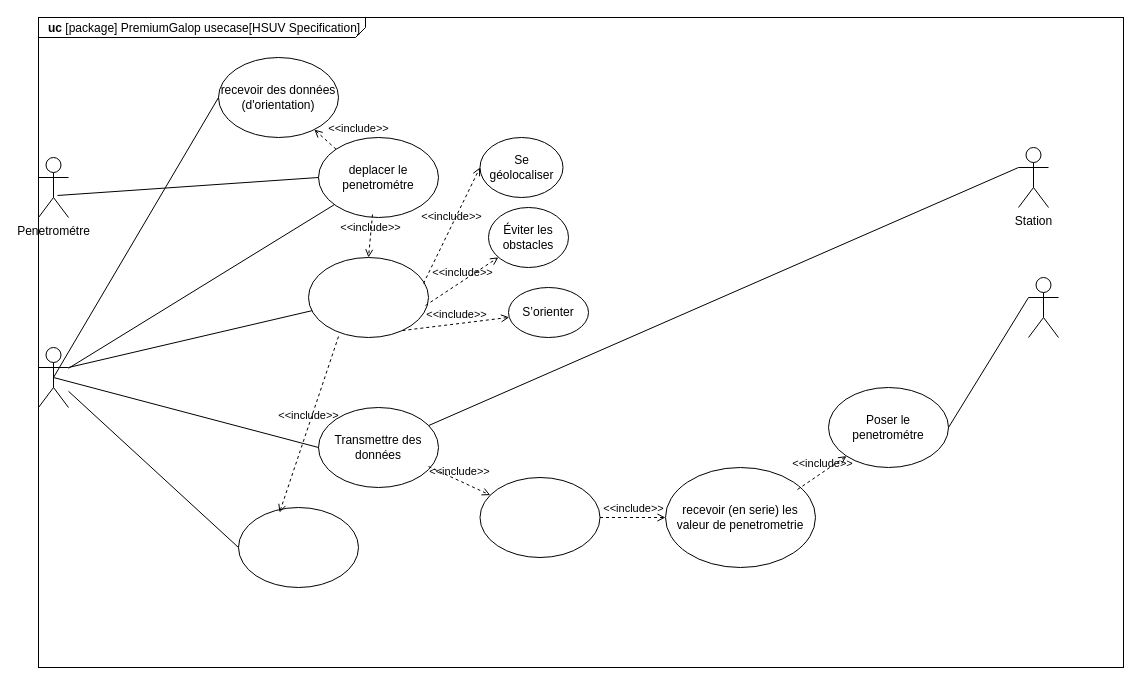
Some shapes in this 1141 by 685 pixel diagram are drawn without their labels. Here are the shapes that lost their labels. From the top down, the centre of each, then its label:
pixel 368 297: se deplacer en suivant une trajectoire
pixel 1043 307: Terrain
pixel 53 377: Robot
pixel 539 517: mesurer les valeurs de penetrometrie
pixel 298 547: Alimenter
